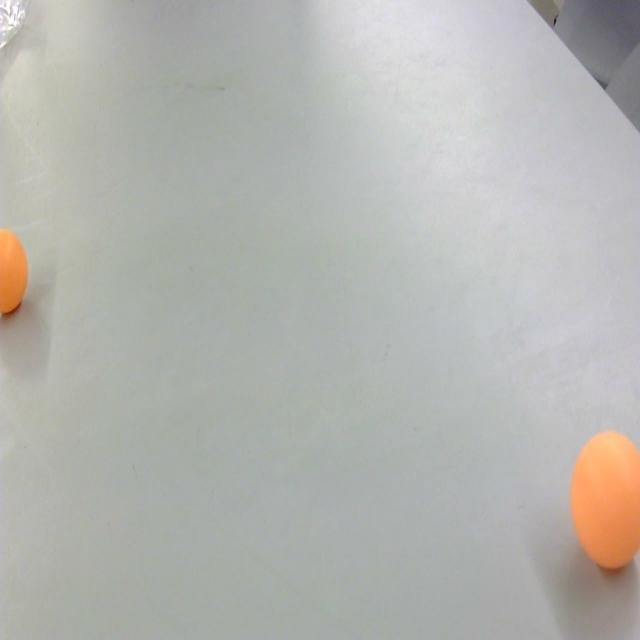ball: (570, 426, 640, 574), (0, 228, 28, 322)
